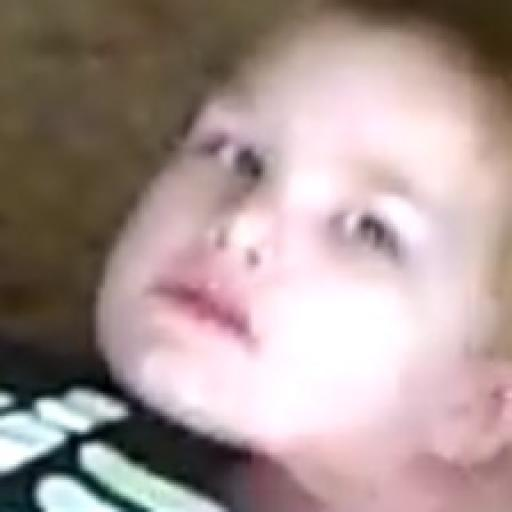Autism: (71, 15, 512, 493)
